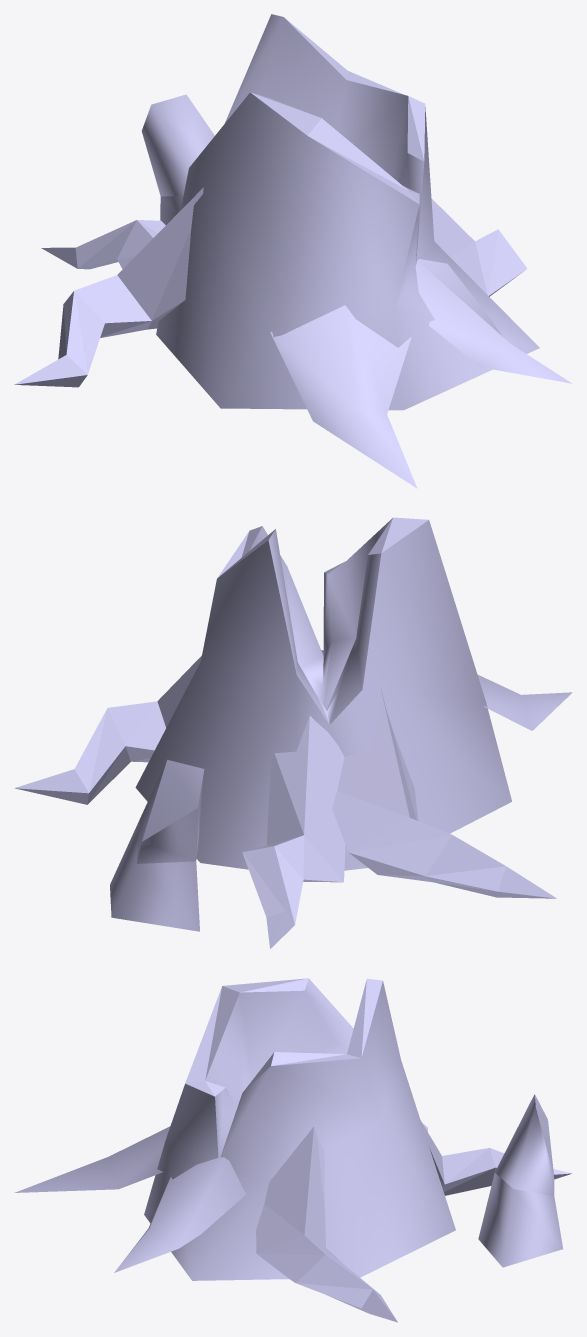
3 renders of one model, top to bottom at view 1: azimuth 30°, elevation 25°; view 2: azimuth 150°, elevation 25°; view 3: azimuth 270°, elevation 25°, orthographic. The views are drawn at different scales.
Parts seen in each view (by area): view 1: Object29; view 2: Object29; view 3: Object29.
Boxes of the visible parts, x1,y1,x2,y2 form: Object29: (14, 14, 572, 488); Object29: (14, 517, 572, 948); Object29: (14, 978, 572, 1322).
Bounding box in the file's own units: 278 × 165 × 318.
